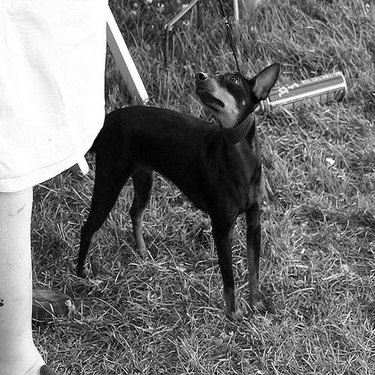dog: (66, 40, 288, 325)
